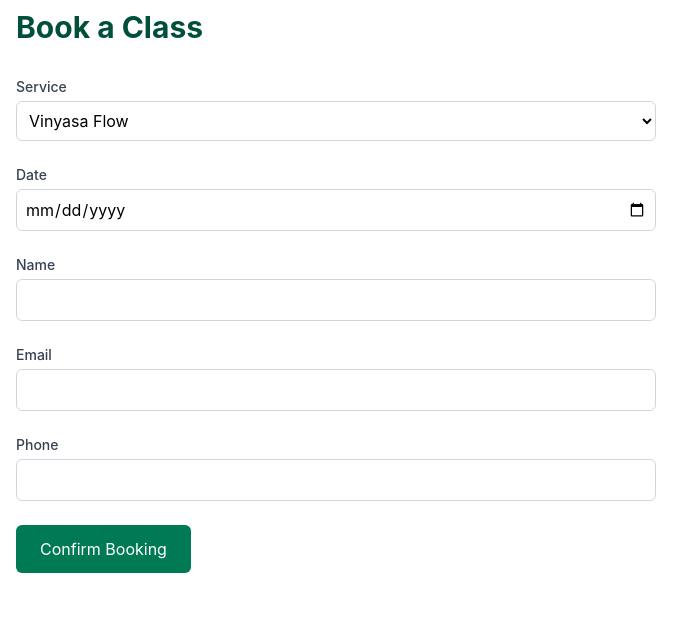
it: Booking page › shows an error message when availability fails to load
This screenshot has width=673, height=634.
Type "2026-10-01" into the date field labelled "Date" at [336, 210], box [16,189,656,231]
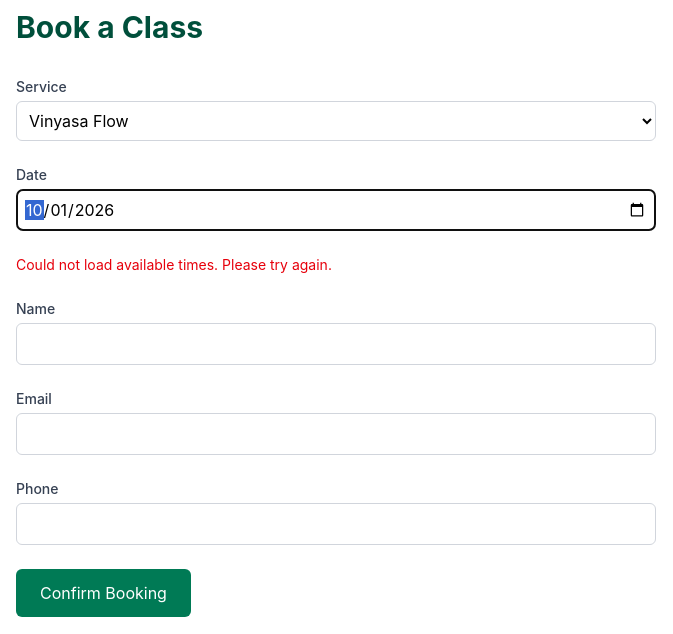
Check: the text "Could not load available times. Please try again." is shown, box [16,256,332,273]
